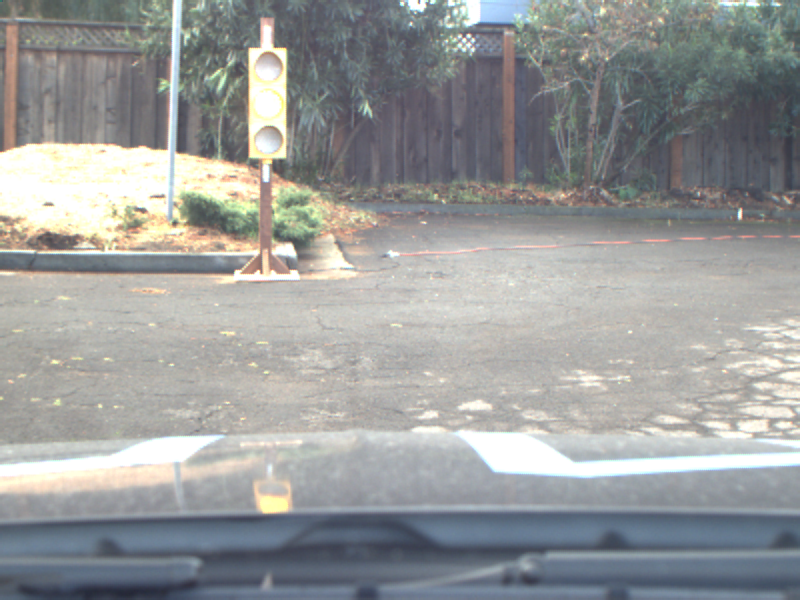Yellow: (246, 47, 288, 159)
